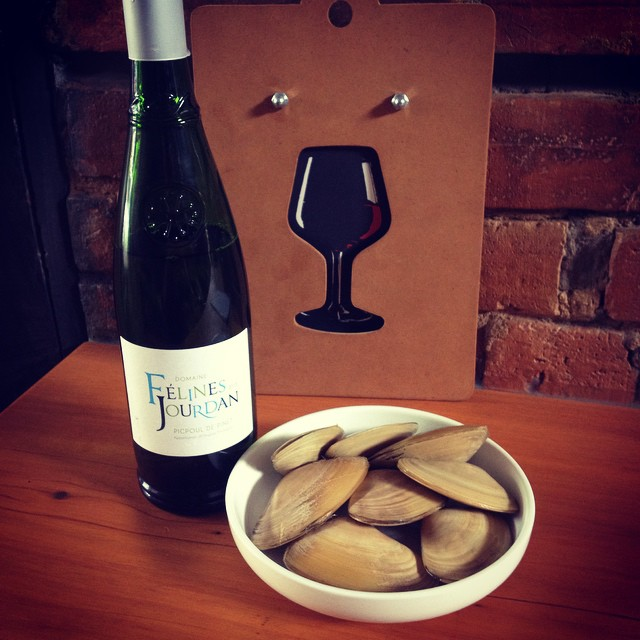tuatua: (248, 455, 368, 551), (283, 515, 429, 590), (394, 455, 523, 515), (420, 508, 513, 585), (349, 470, 449, 526), (368, 424, 493, 465), (327, 421, 420, 459), (267, 422, 338, 466)
